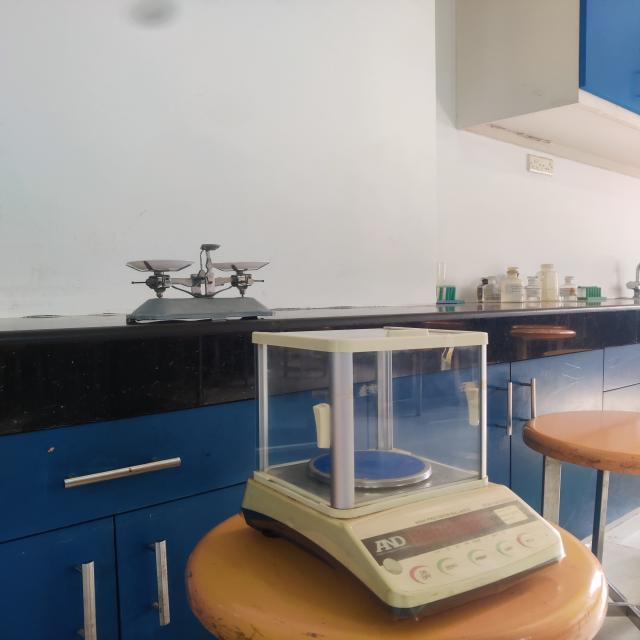Mechanical_Balance_Scale: (100, 236, 286, 326)
Precision_Weight_Scale: (232, 328, 570, 614)
